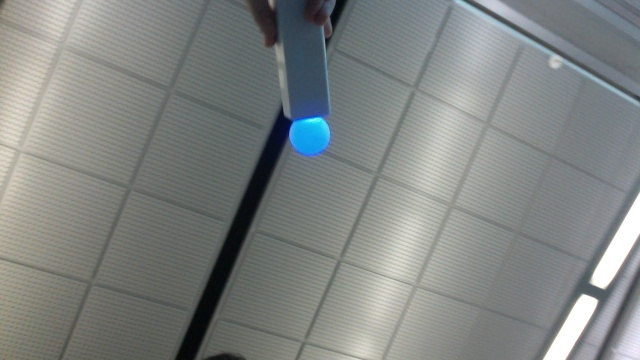wand: (289, 117, 332, 156)
